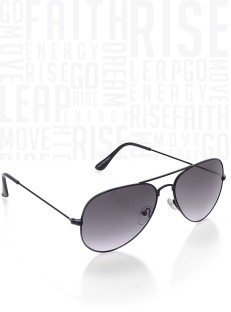sunglasses: (4, 139, 230, 265)
